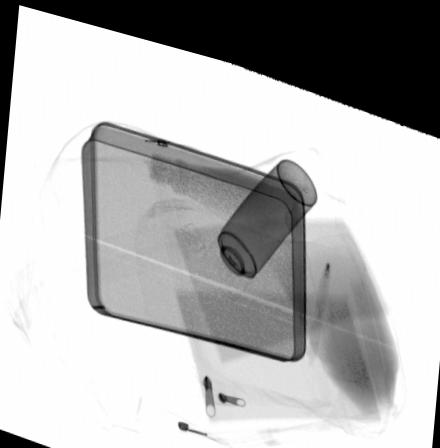Sprayer: (199, 142, 318, 290)
